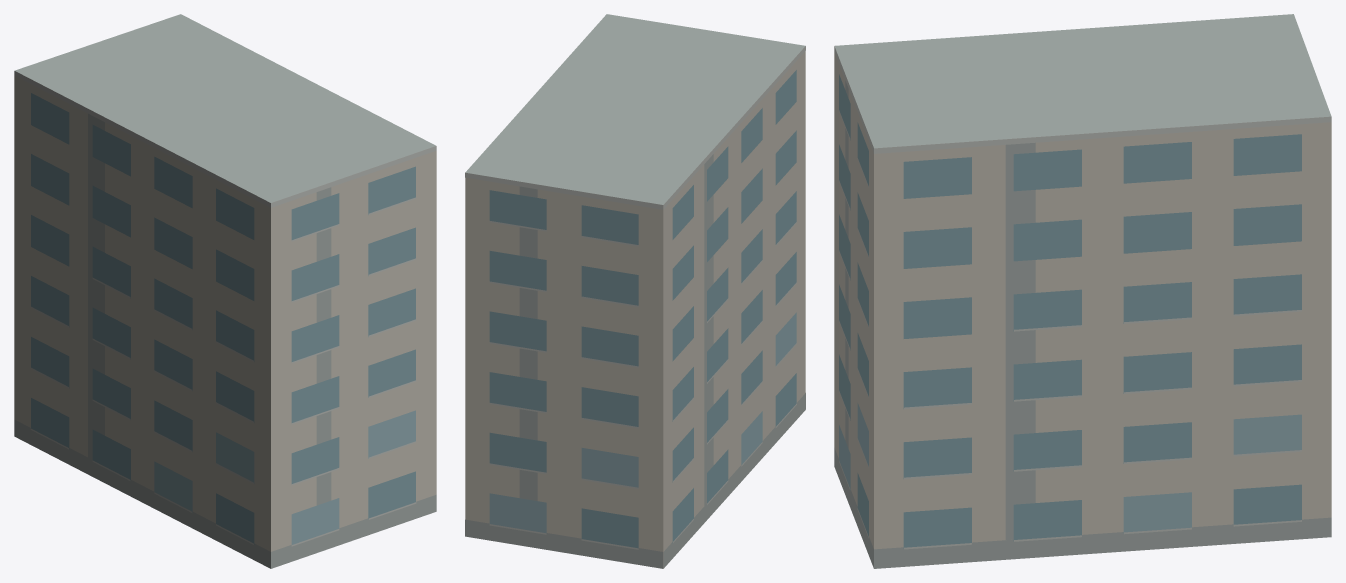
File: survey-upis-32574425.glb
3 views of the same model, side by side, from view 1: azimuth 30°, elevation 25°; view 2: azimuth 150°, elevation 25°; view 3: azimuth 270°, elevation 25° (orthographic). The views are drawn at different scales.
Parts seen in each view (by area): view 1: survey-upis-32574425.tmp; view 2: survey-upis-32574425.tmp; view 3: survey-upis-32574425.tmp.
Boxes of the visible parts, left/top/right/bottom form: survey-upis-32574425.tmp: left=14, top=14, right=436, bottom=568; survey-upis-32574425.tmp: left=465, top=14, right=805, bottom=568; survey-upis-32574425.tmp: left=834, top=14, right=1331, bottom=568.
Size of the model in its own units: 12.55 by 18.3 by 19.62.
